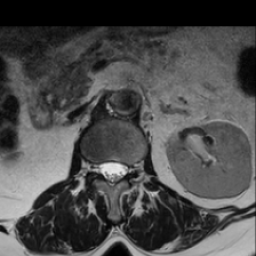CCS_normal: (107, 151, 116, 193)
LFS_stenosis: (127, 154, 136, 183)
LLS_normal: (116, 151, 127, 185)
RFS_normal: (90, 151, 98, 179)
RLS_normal: (98, 153, 107, 185)
